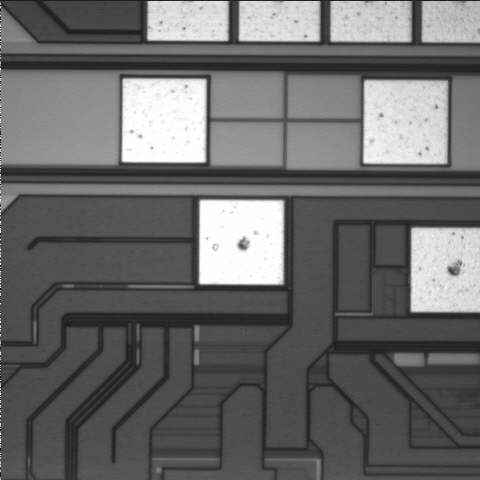pad: (199, 200, 284, 285), (122, 79, 206, 163), (363, 80, 447, 164)
